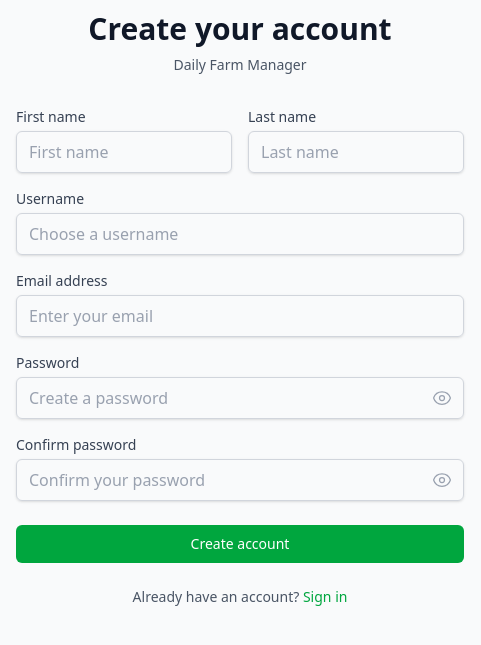
Test: Registration Flow › should show error for password mismatch
Type "New" into the field named "firstName" at (124, 152), box [16, 131, 232, 173]
Type "User" into the field named "lastName" at (356, 152), box [248, 131, 464, 173]
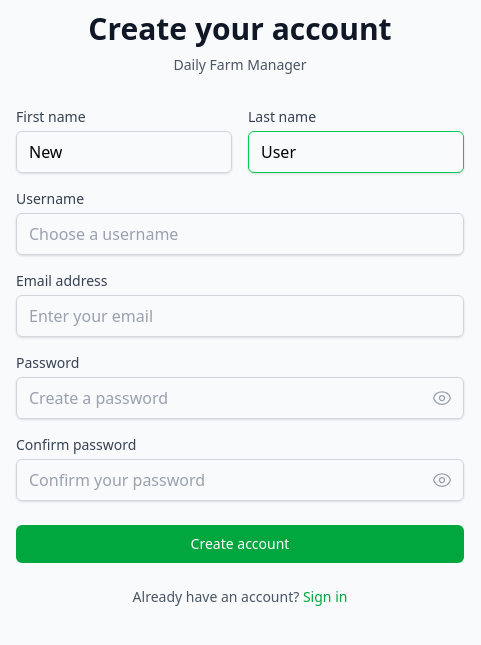
Type "newuser" into the field named "username" at (240, 234), box [16, 213, 464, 255]
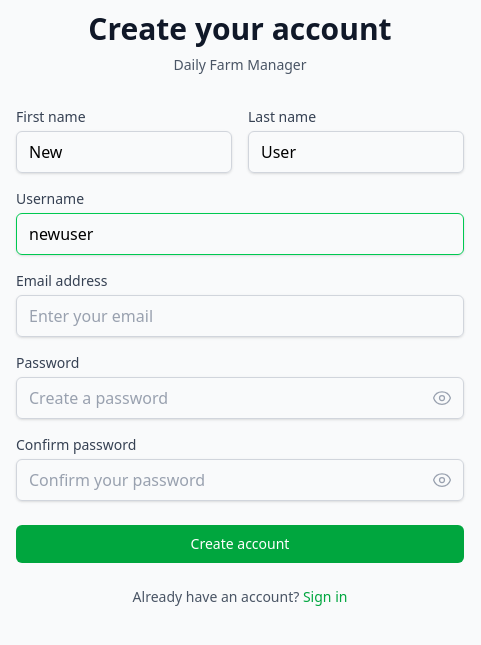
Type "newuser@example.com" into the field named "email" at (240, 316), box [16, 295, 464, 337]
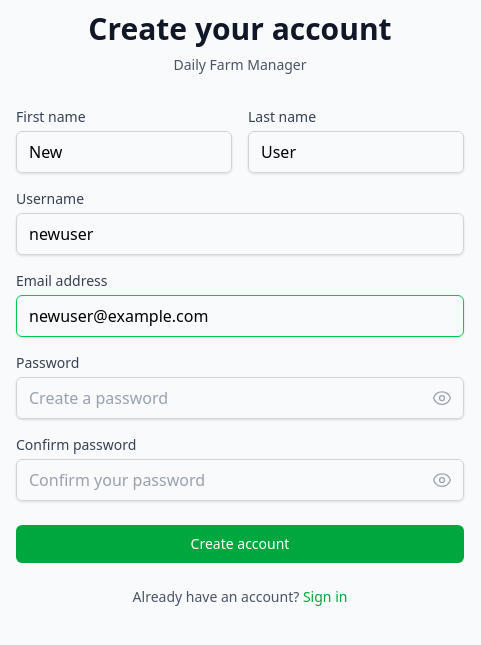
Type "NewPassword123@" into the password field named "password" at (240, 398), box [16, 377, 464, 419]
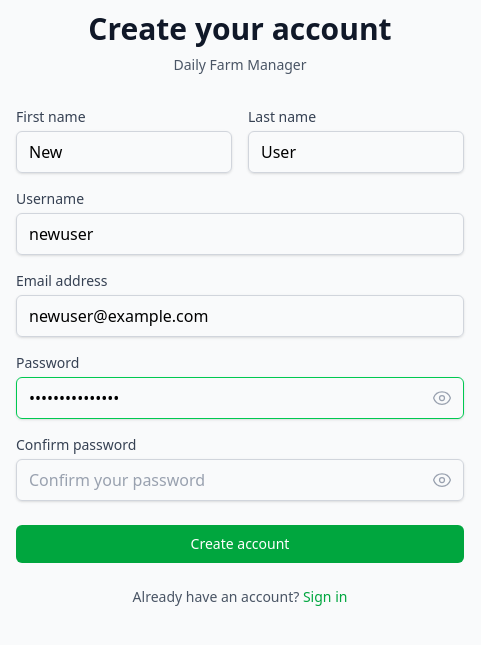
Type "DifferentPassword123@" into the password field named "confirmPassword" at (240, 480), box [16, 459, 464, 501]
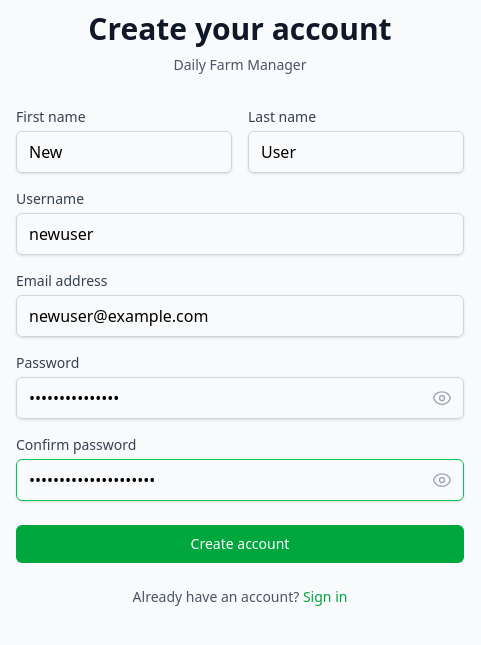
Click the submit button at (240, 544), box [16, 525, 464, 563]
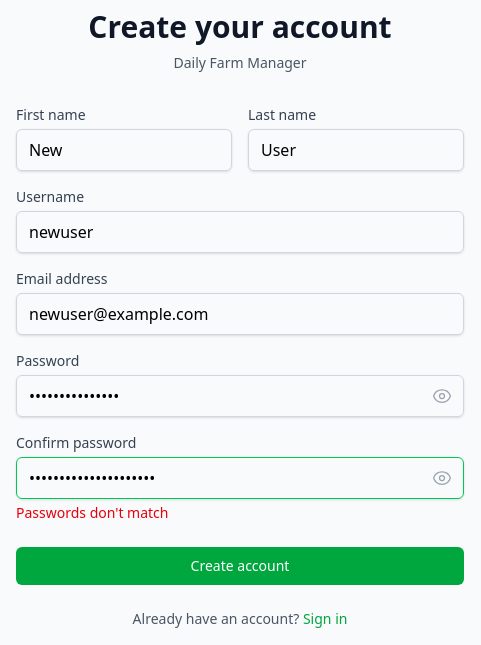
Now the text "Passwords don't match" is shown, box [16, 503, 168, 522]
